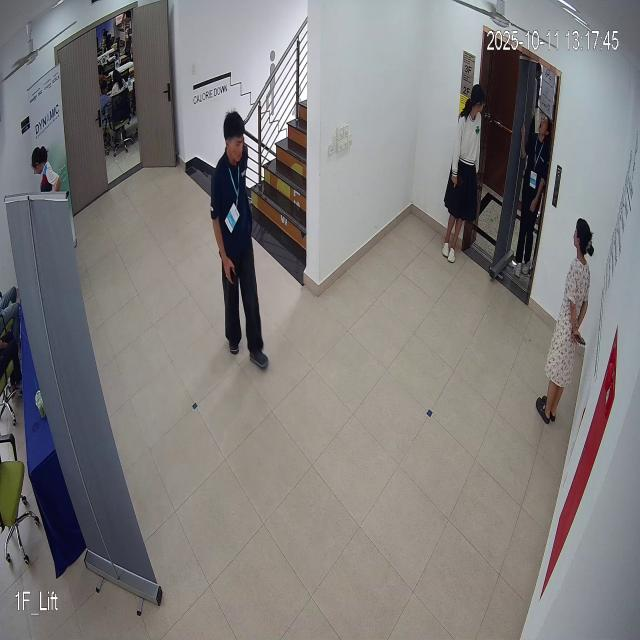face: (219, 99, 247, 171)
